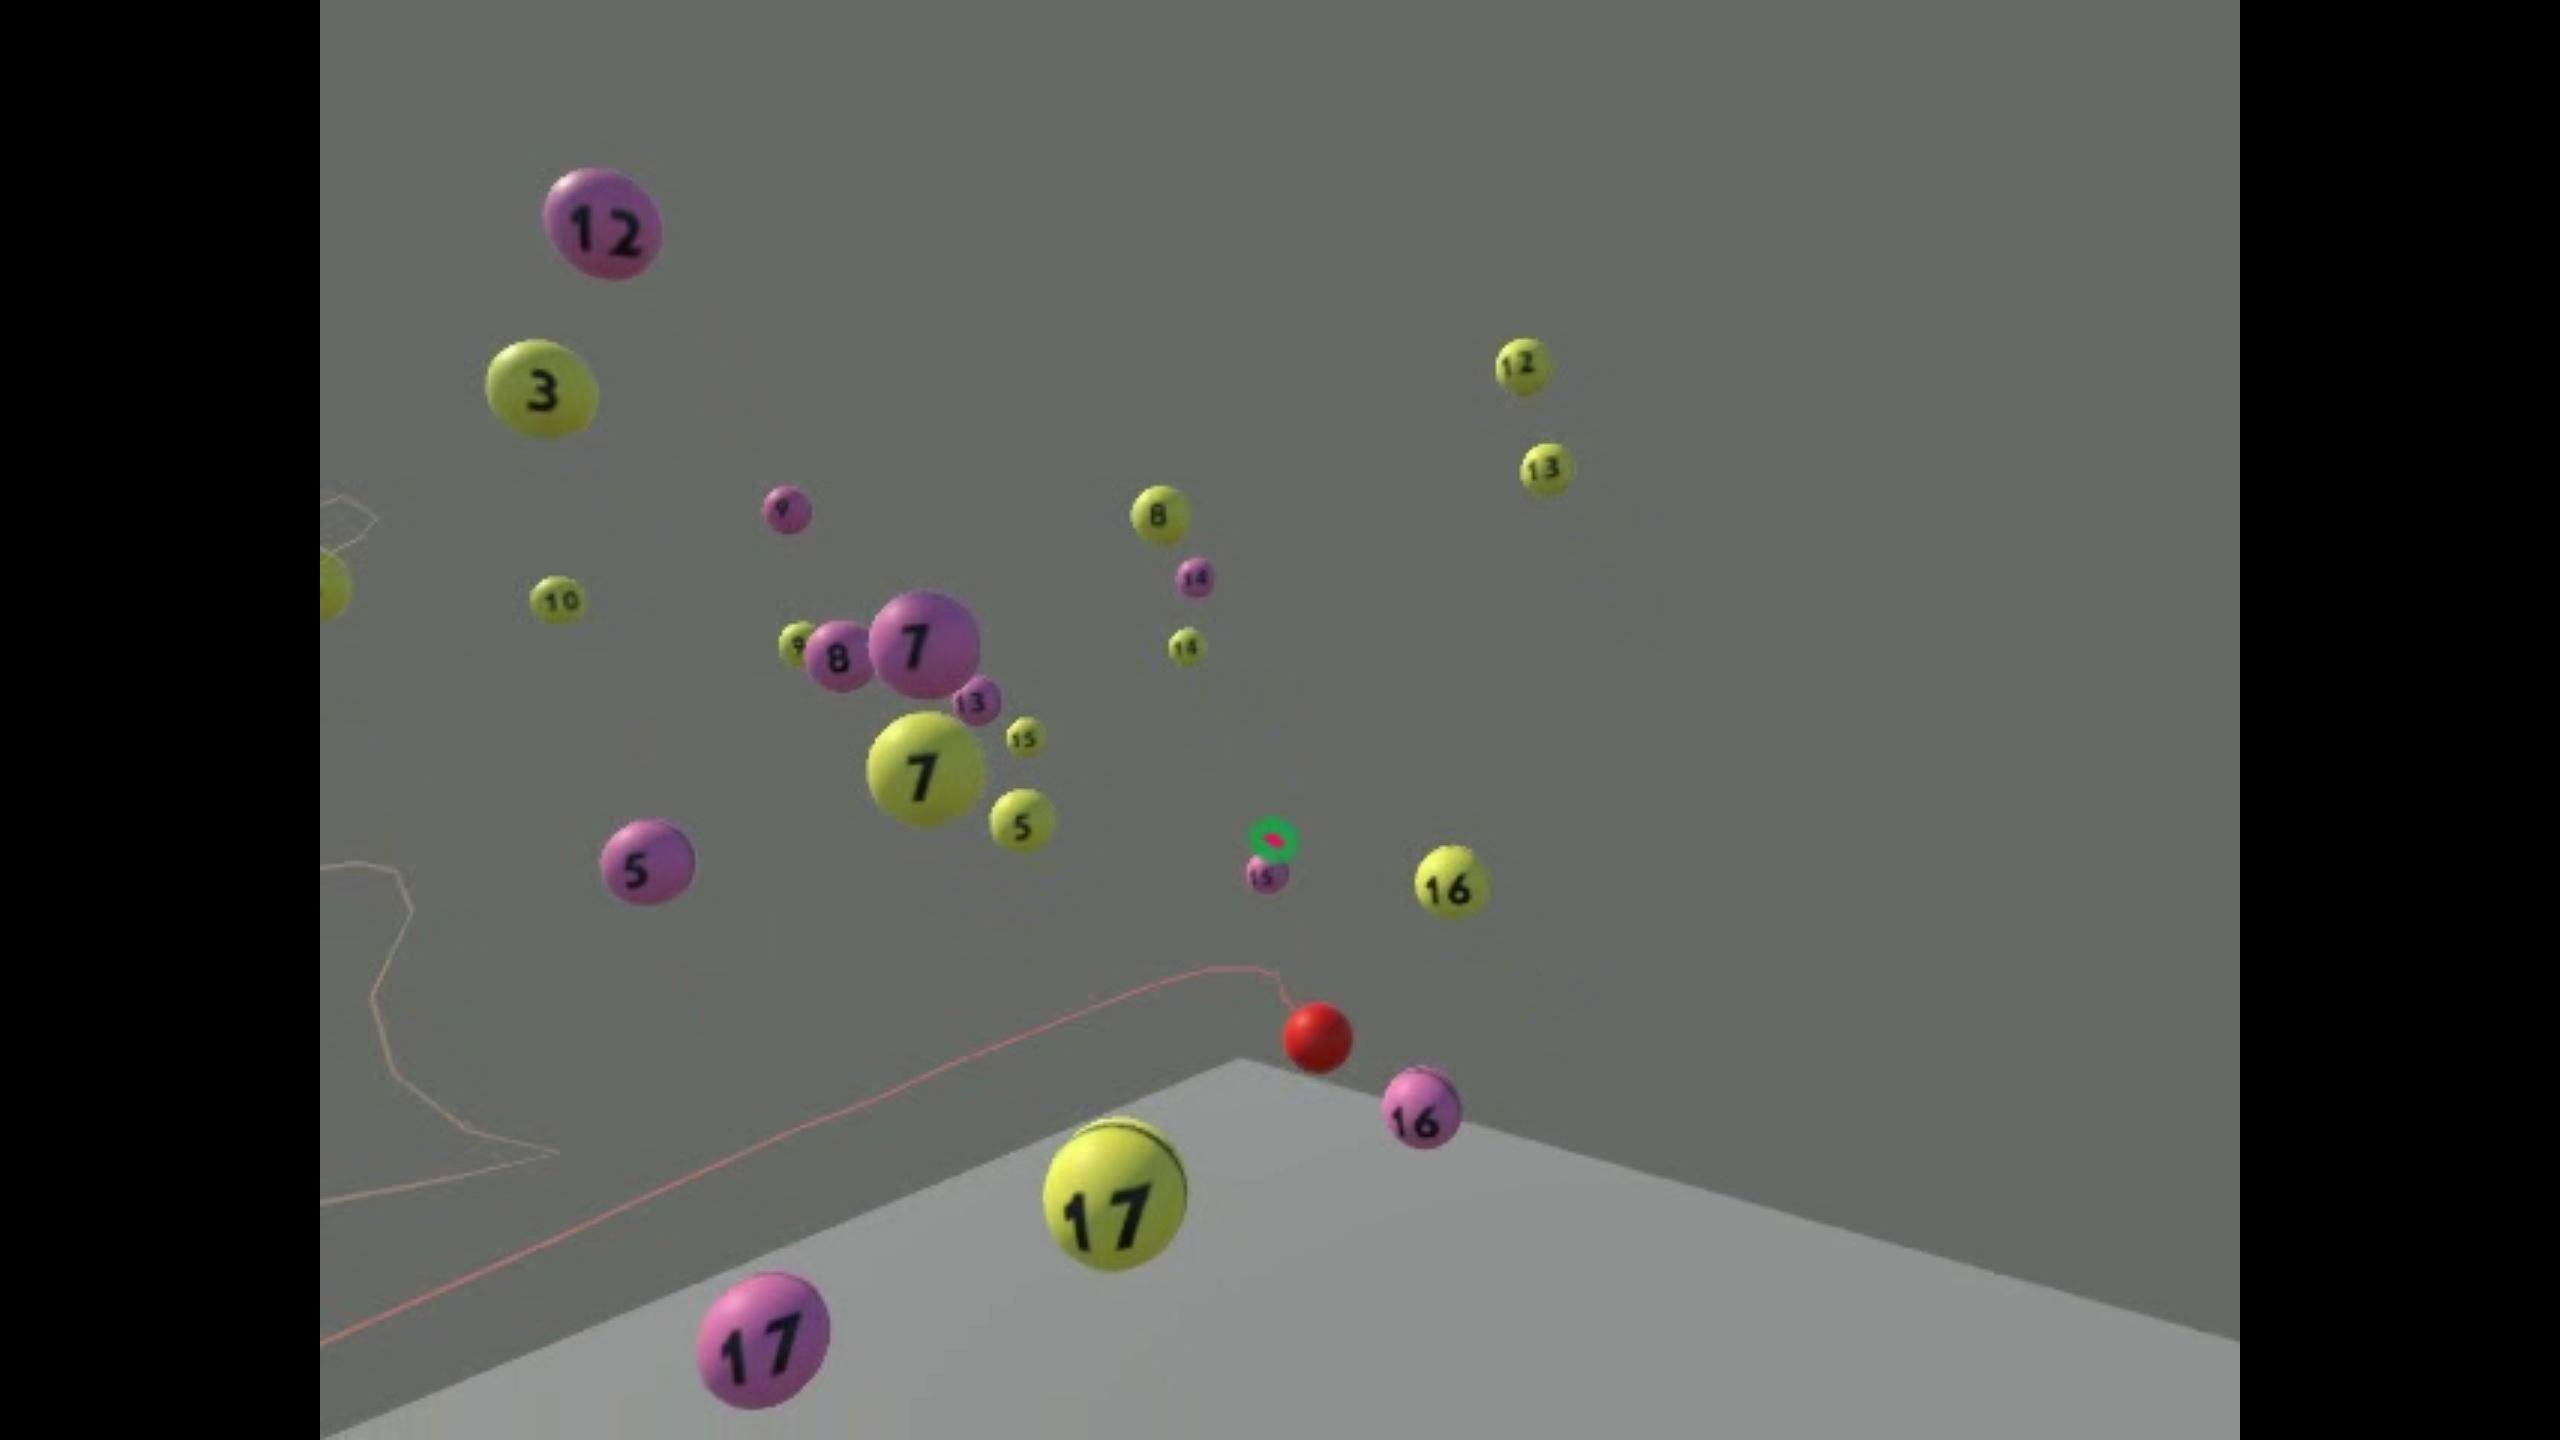ball_03_yellow: (484, 338, 598, 443)
ball_05_pink: (598, 821, 696, 907)
ball_05_yellow: (990, 789, 1057, 855)
ball_07_pink: (869, 593, 979, 700)
ball_07_yellow: (867, 712, 986, 826)
ball_08_pink: (804, 621, 872, 693)
ball_08_yellow: (1132, 487, 1187, 542)
ball_09_pink: (763, 485, 812, 536)
ball_10_yellow: (531, 577, 585, 622)
ball_12_yellow: (1495, 338, 1547, 394)
ball_13_pink: (542, 167, 659, 281)
ball_13_yellow: (1521, 441, 1575, 491)
ball_14_pink: (1176, 556, 1215, 598)
ball_14_yellow: (1167, 626, 1206, 672)
ball_15_yellow: (1007, 717, 1044, 756)
ball_16_pink: (1384, 1067, 1465, 1150)
ball_16_yellow: (1414, 844, 1489, 920)
ball_17_pink: (696, 1271, 830, 1410)
ball_17_yellow: (1044, 1120, 1189, 1269)
ball_unknown: (320, 547, 353, 629), (955, 677, 999, 723), (1247, 851, 1289, 897), (779, 617, 807, 670)
user_cursor: (1284, 1004, 1352, 1074)
